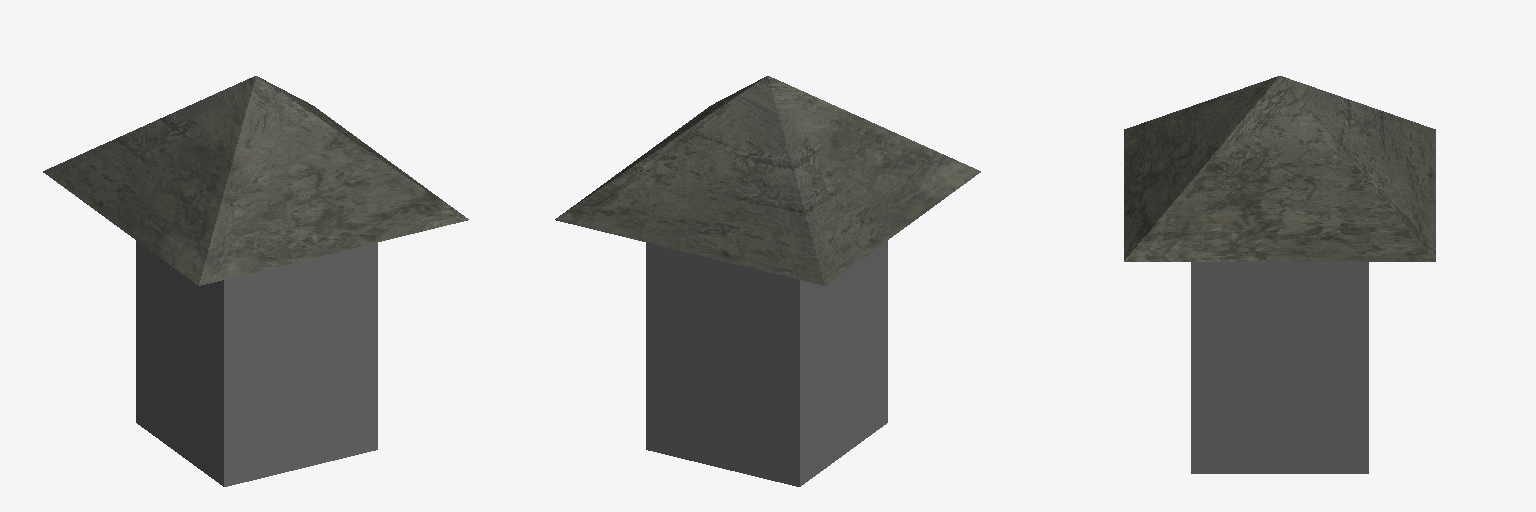
3 renders of one model, left to right at view 1: azimuth 30°, elevation 25°; view 2: azimuth 150°, elevation 25°; view 3: azimuth 270°, elevation 25°, orthographic.
Visible parts, largest first — view 1: Box001, Cone001; view 2: Box001, Cone001; view 3: Cone001, Box001.
Part boxes in pixels (x1,y1,x2,y2): Box001: (136,241,377,486); Cone001: (43,76,468,285); Box001: (646,241,887,486); Cone001: (555,76,980,285); Cone001: (1124,76,1435,261); Box001: (1191,262,1368,473).
Bounding box in the file's own units: 139 × 177 × 139.
2 materials, 1 textured.